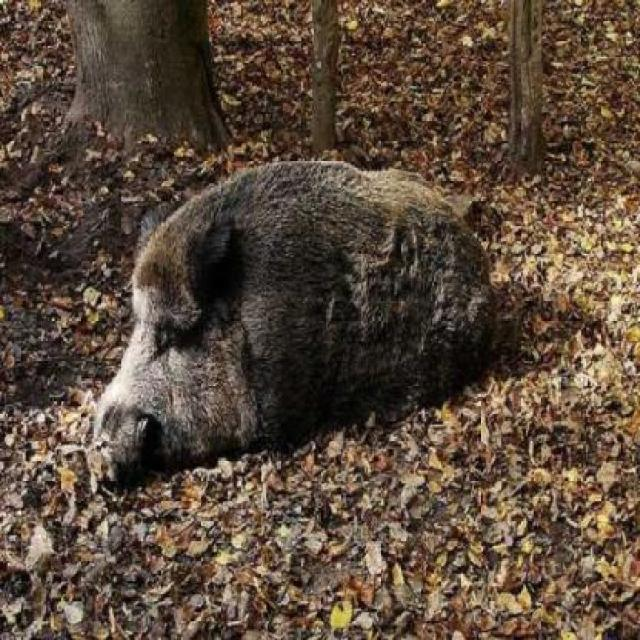Boar: (84, 132, 556, 476)
